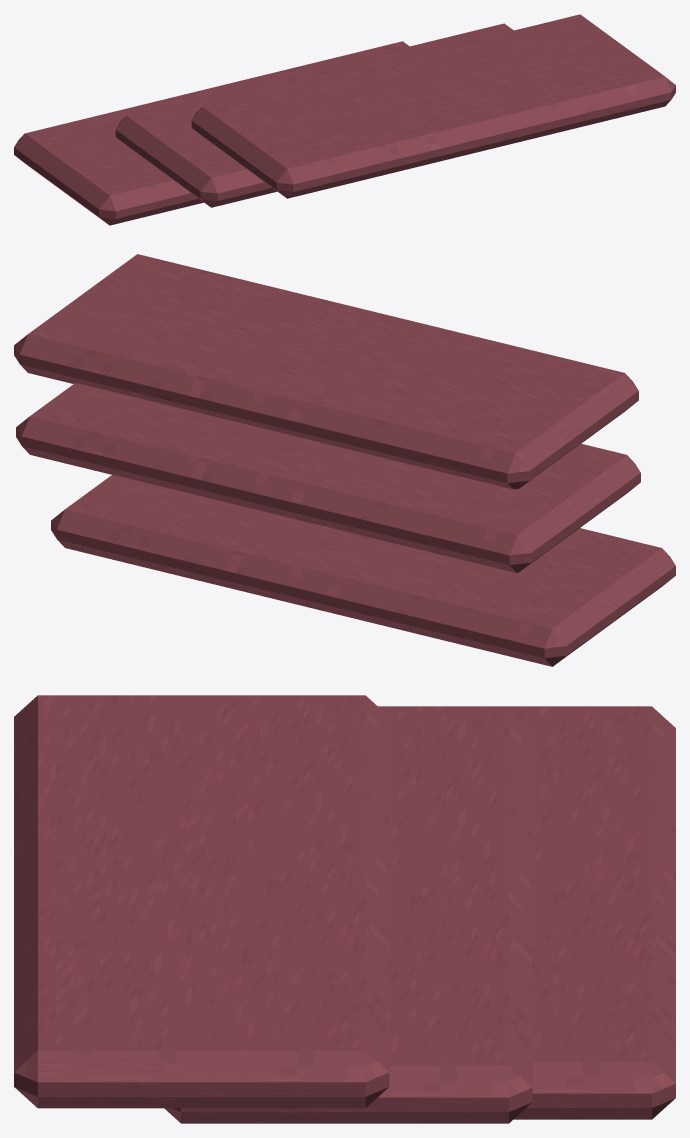
Rendered from fruit_leather.glb.
The picture shows the model from 3 angles, top to bottom: view 1: azimuth 30°, elevation 25°; view 2: azimuth 150°, elevation 25°; view 3: azimuth 270°, elevation 25°; orthographic projection. The views are drawn at different scales.
Parts seen in each view (by area): view 1: block_dried fruit sheet (×3); view 2: block_dried fruit sheet (×3); view 3: block_dried fruit sheet (×3).
Part boxes in pixels (left/top/right/bottom): block_dried fruit sheet (×3): left=14, top=14, right=675, bottom=225; block_dried fruit sheet (×3): left=14, top=254, right=675, bottom=666; block_dried fruit sheet (×3): left=14, top=695, right=675, bottom=1123.
Bounding box in the file's own units: 0.0704 × 0.0115 × 0.0417.
1 material, 1 textured.
